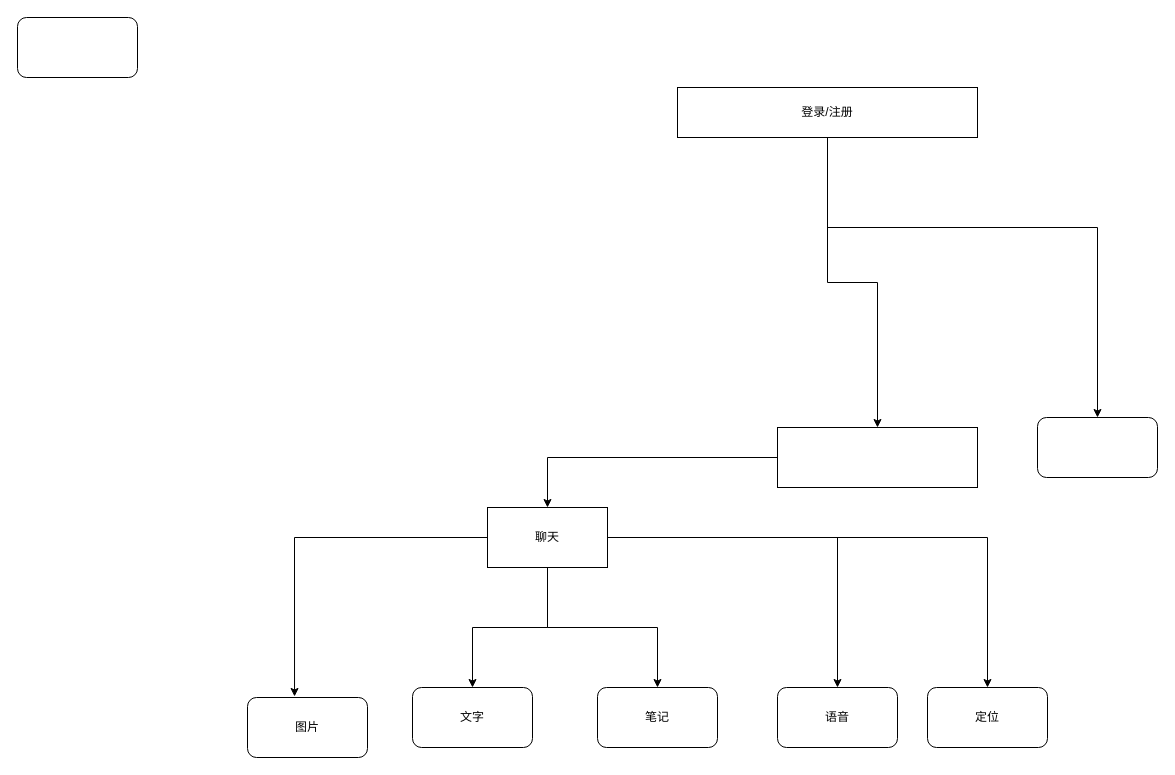
Some shapes in this 1175 by 775 pixel diagram are drawn without their labels. The shapes that lost their labels are listed below. From the top down, each one's centre as x and y in pixels, then its label:
At (x=77, y=47): "记事本".
At (x=877, y=457): "加好友".
At (x=1097, y=447): "笔记markdown语法".
